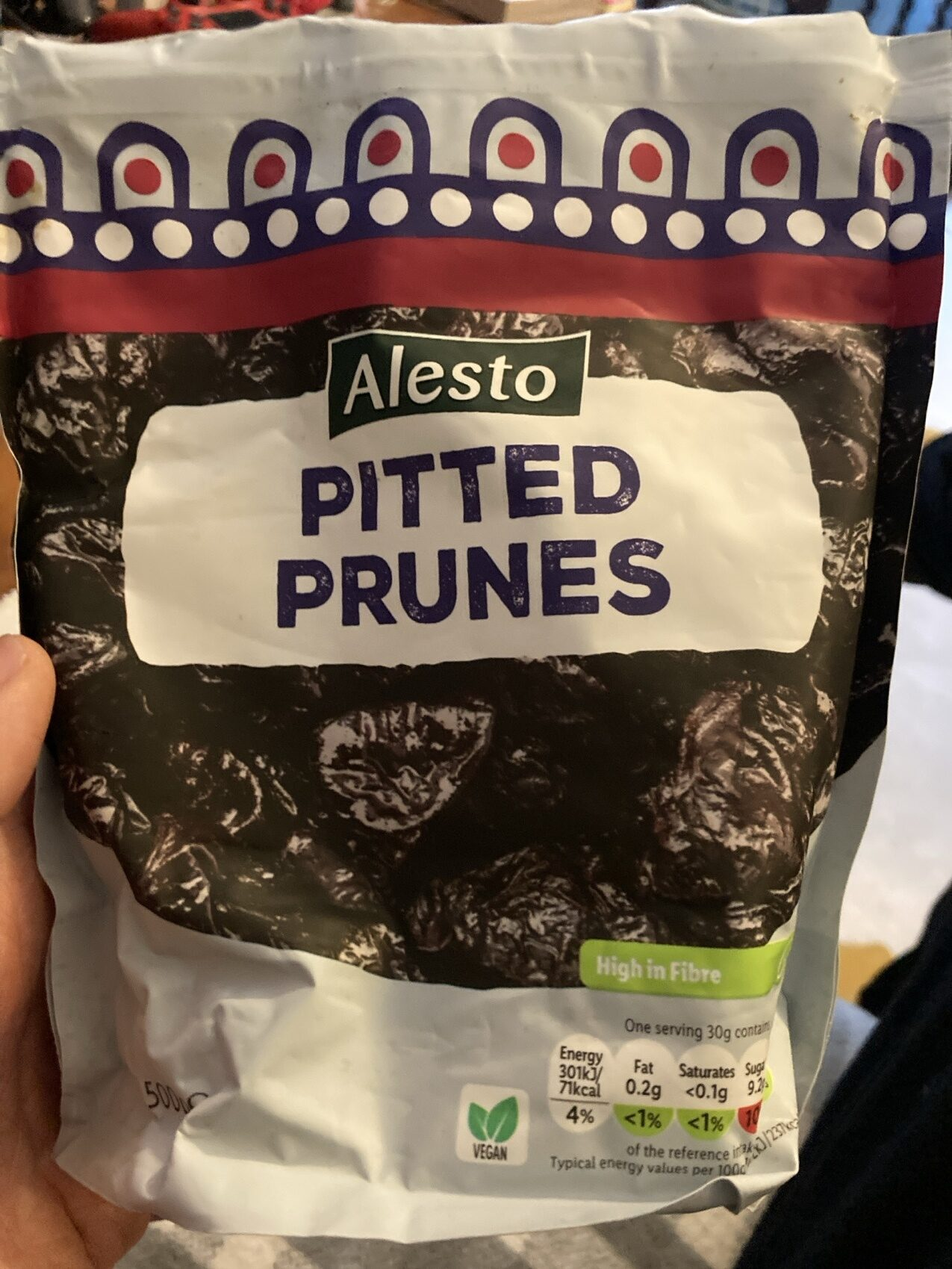Pitted Prunes: (48, 63, 904, 1206)
